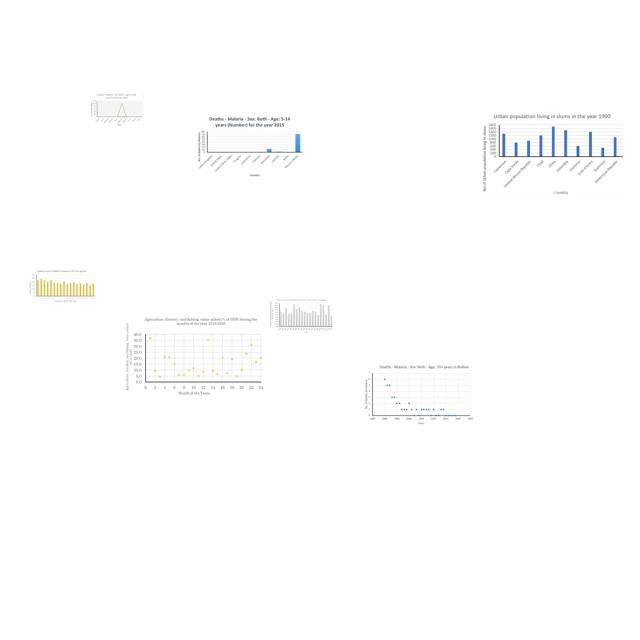Graph: (477, 110, 627, 200), (122, 314, 265, 399), (363, 363, 474, 427), (196, 115, 304, 178), (269, 298, 334, 335), (29, 269, 96, 303), (89, 92, 144, 127)
